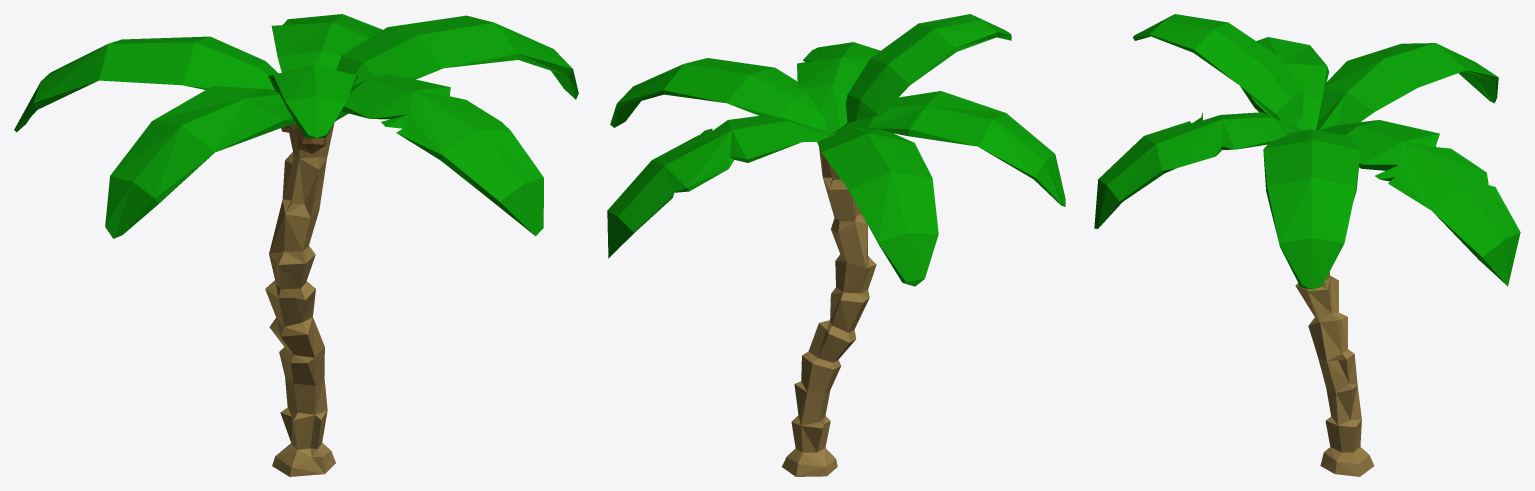
Rendered from tree.fbx.
3 renders of one model, left to right at view 1: azimuth 30°, elevation 25°; view 2: azimuth 150°, elevation 25°; view 3: azimuth 270°, elevation 25°, orthographic. The views are drawn at different scales.
Parts seen in each view (by area): view 1: Low Poly Multicolor Palm Tree; view 2: Low Poly Multicolor Palm Tree; view 3: Low Poly Multicolor Palm Tree.
Boxes of the visible parts, bbox=[...] form: Low Poly Multicolor Palm Tree: bbox=[14, 14, 578, 476]; Low Poly Multicolor Palm Tree: bbox=[607, 14, 1065, 476]; Low Poly Multicolor Palm Tree: bbox=[1094, 14, 1520, 476].
Size of the model in its own units: 2508 by 2281 by 2158.
